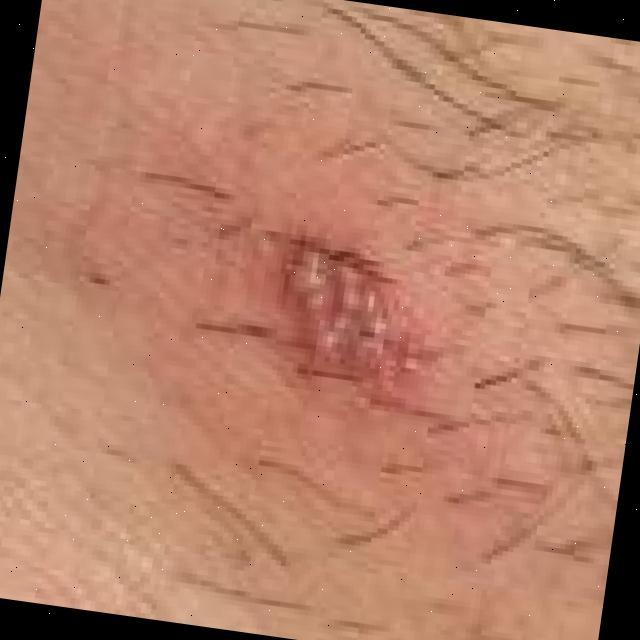Shingles: (258, 238, 429, 402)
